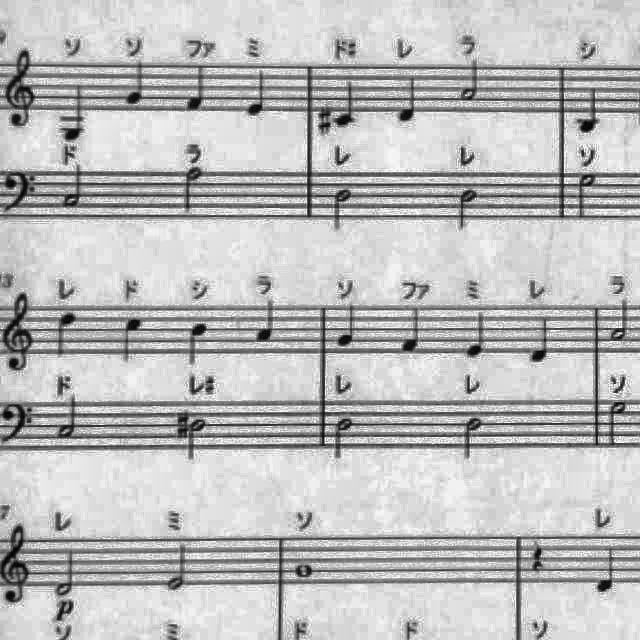Bass-clef: (0, 166, 40, 222), (0, 398, 38, 450)
Diez: (315, 105, 333, 139), (175, 406, 191, 442)
Full-note: (290, 558, 322, 582)
Half-note: (52, 544, 84, 600), (164, 538, 196, 594), (177, 162, 207, 214), (572, 167, 600, 221), (604, 398, 632, 452), (458, 412, 486, 464), (606, 295, 634, 345), (330, 415, 358, 465), (55, 395, 83, 445), (330, 185, 358, 235), (60, 161, 88, 211), (456, 57, 482, 106), (456, 185, 480, 235), (188, 414, 208, 464)
Quarter-note: (56, 82, 92, 146), (592, 542, 624, 596), (525, 312, 555, 368), (463, 307, 493, 363), (398, 300, 427, 356), (333, 298, 363, 352), (576, 82, 604, 138), (54, 306, 82, 362), (122, 58, 152, 110), (251, 295, 281, 347), (183, 318, 213, 369), (120, 312, 148, 366), (184, 63, 212, 117), (246, 63, 274, 117), (334, 77, 360, 131), (394, 73, 420, 127)
Quarter-rest: (525, 536, 551, 576)
Treble-clef: (0, 42, 40, 133), (0, 284, 38, 376), (0, 516, 36, 608)
